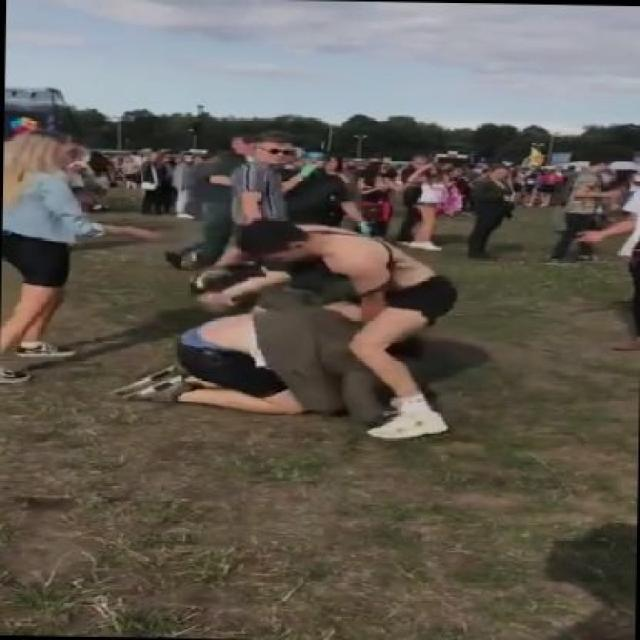fight: (119, 213, 451, 448)
non-fight: (1, 124, 110, 393), (163, 141, 243, 274)
